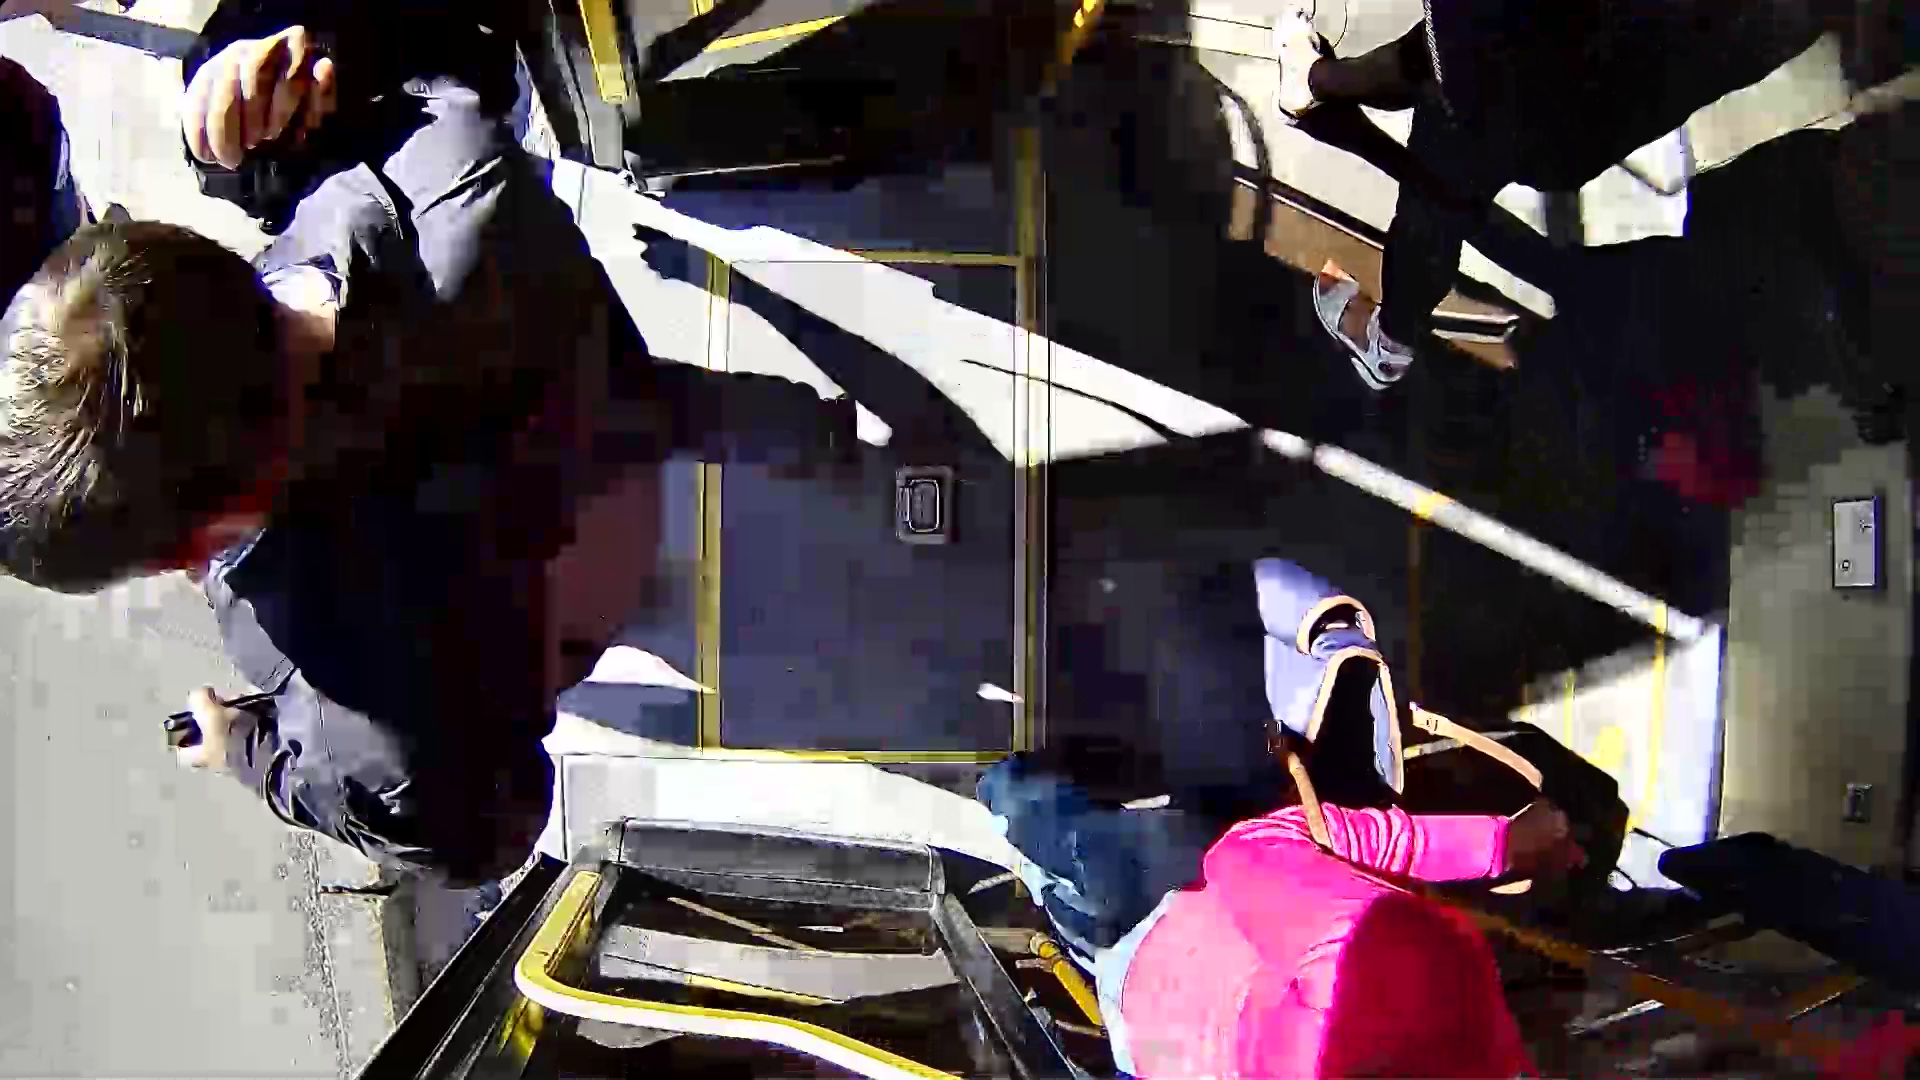person: (37, 128, 866, 861)
